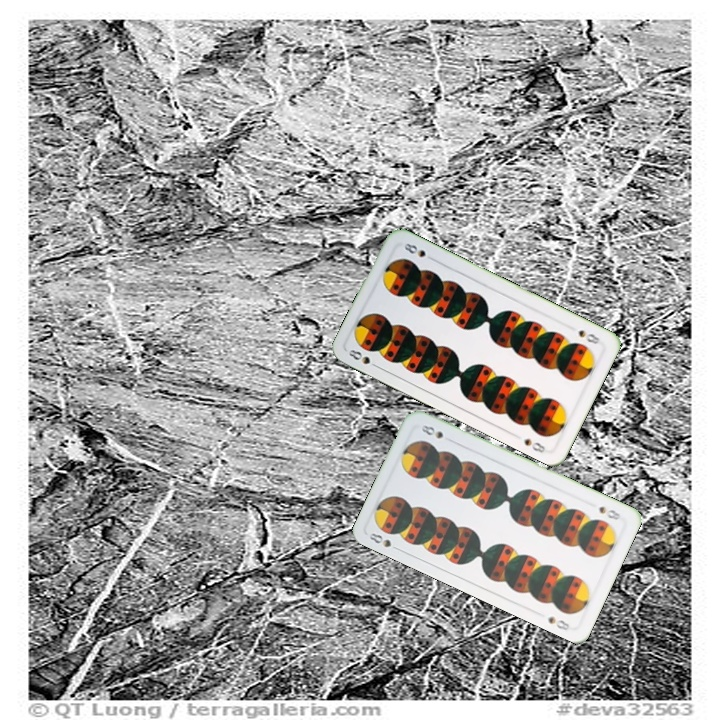S8: (345, 345, 382, 371), (365, 529, 403, 554), (574, 326, 603, 347), (595, 502, 623, 523)
